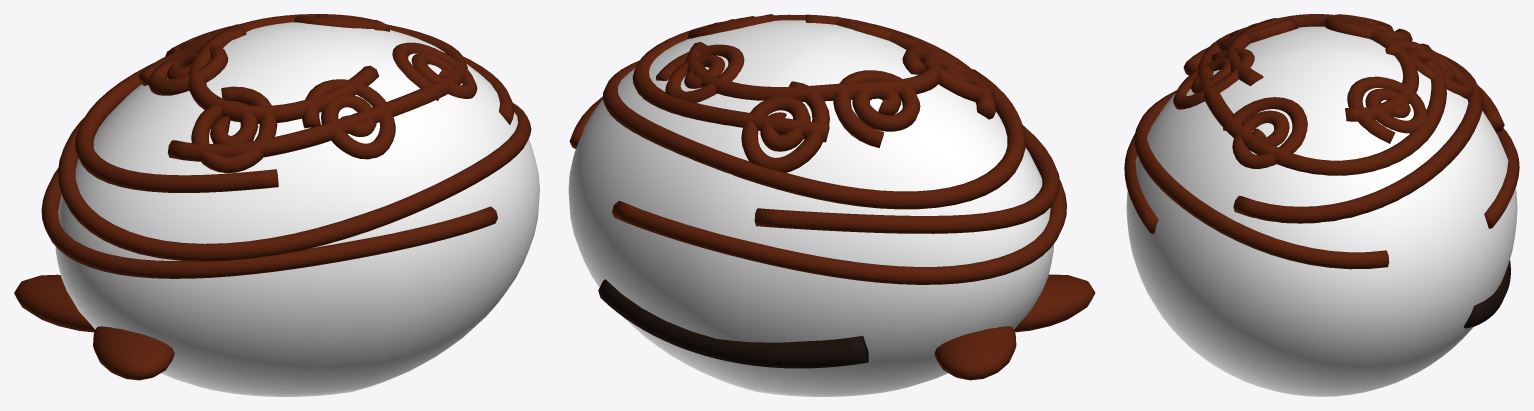
The picture shows the model from 3 angles, left to right: view 1: azimuth 30°, elevation 25°; view 2: azimuth 150°, elevation 25°; view 3: azimuth 270°, elevation 25°; orthographic projection. The views are drawn at different scales.
Visible parts, largest first — view 1: MoV2; view 2: MoV2; view 3: MoV2.
Part boxes in pixels (x1,y1,x2,y2): MoV2: (14,14,539,396); MoV2: (568,14,1095,396); MoV2: (1124,14,1519,396).
Bounding box in the file's own units: 0.3558 × 0.23 × 0.283.
